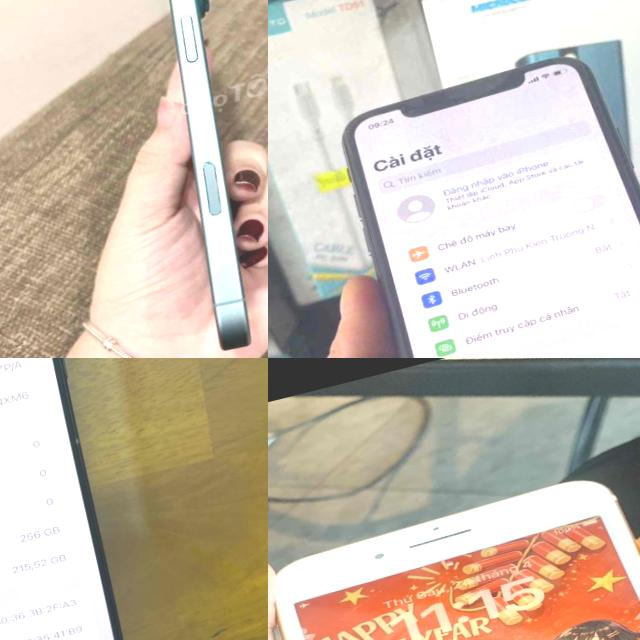gen_16: (84, 0, 268, 358)
gen_17: (0, 358, 158, 640)
gen_7_8: (268, 448, 640, 640)
gen_x_xs: (321, 37, 640, 358)
